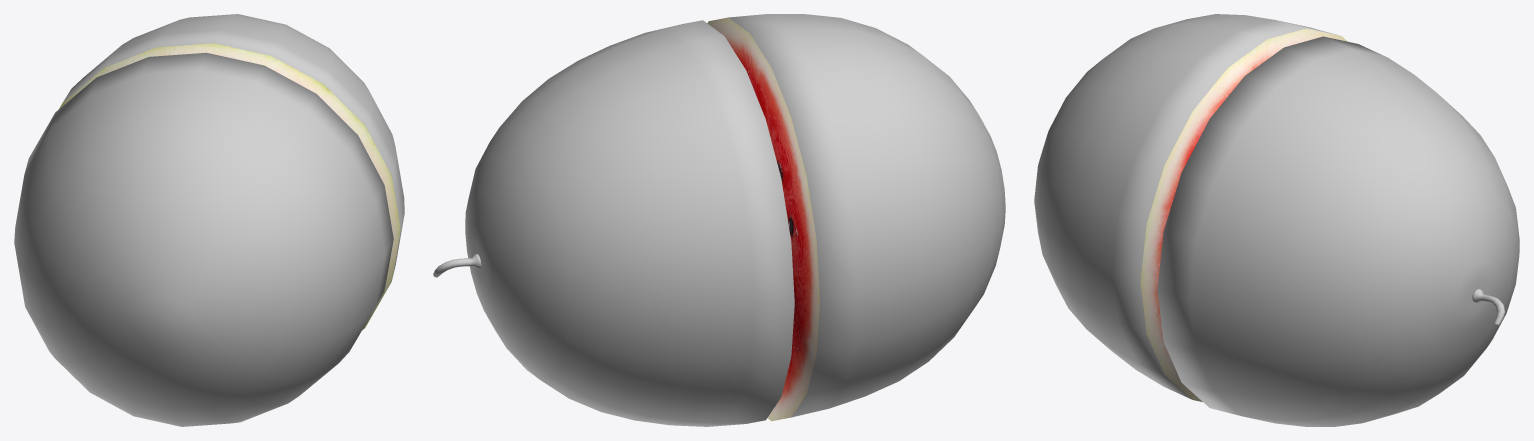
Rendered from WatermelonSliced.fbx.
3 renders of one model, left to right at view 1: azimuth 30°, elevation 25°; view 2: azimuth 150°, elevation 25°; view 3: azimuth 270°, elevation 25°, orthographic. The views are drawn at different scales.
Visible parts, largest first — view 1: Watermelon_lambert1_0.001, Watermelon_lambert1_0; view 2: Watermelon_lambert1_0, Watermelon_lambert1_0.001; view 3: Watermelon_lambert1_0, Watermelon_lambert1_0.001.
Part boxes in pixels (x1=…): Watermelon_lambert1_0.001: x1=14, y1=52, x2=393, y2=426; Watermelon_lambert1_0: x1=59, y1=14, x2=404, y2=330; Watermelon_lambert1_0: x1=433, y1=20, x2=794, y2=426; Watermelon_lambert1_0.001: x1=707, y1=14, x2=1005, y2=421; Watermelon_lambert1_0: x1=1157, y1=36, x2=1519, y2=426; Watermelon_lambert1_0.001: x1=1034, y1=14, x2=1347, y2=401.
Bounding box in the file's own units: 535 × 450 × 554.
